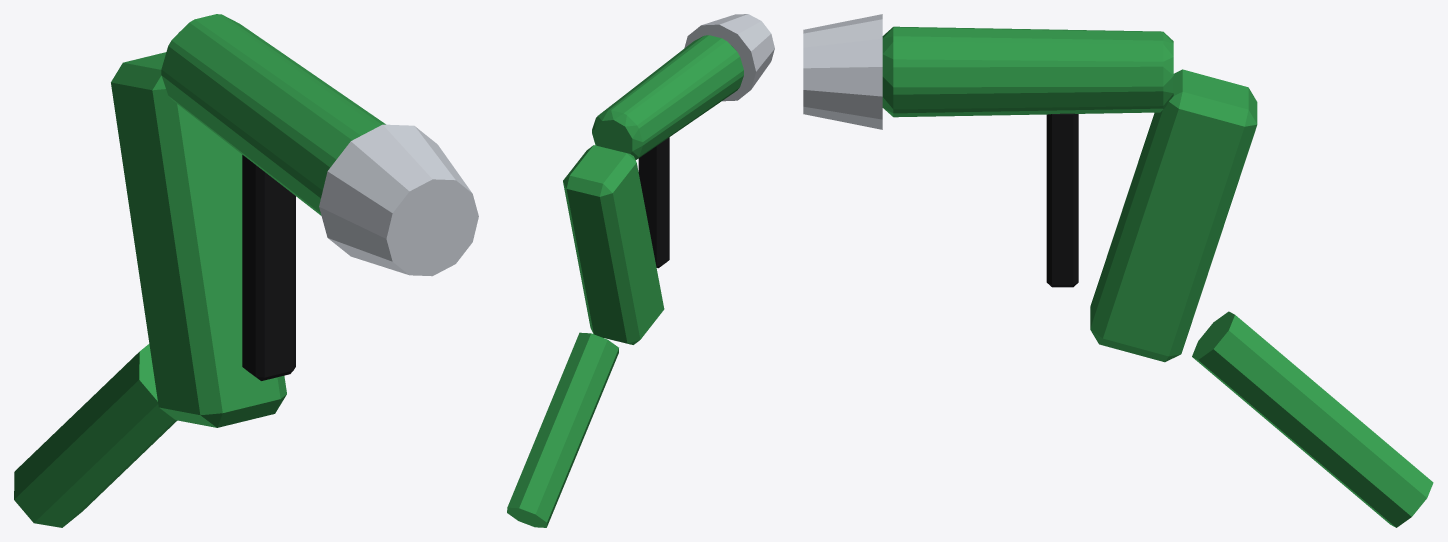
Rendered from HoseNozzle.glb.
The picture shows the model from 3 angles, left to right: view 1: azimuth 30°, elevation 25°; view 2: azimuth 150°, elevation 25°; view 3: azimuth 270°, elevation 25°; orthographic projection. The views are drawn at different scales.
Parts seen in each view (by area): view 1: Body; view 2: Body; view 3: Body.
Part boxes in pixels (bbox=[...]): Body: bbox=[14, 14, 478, 527]; Body: bbox=[507, 14, 774, 527]; Body: bbox=[803, 14, 1433, 527].
Size of the model in its own units: 0.044 by 0.2108 by 0.2382.
